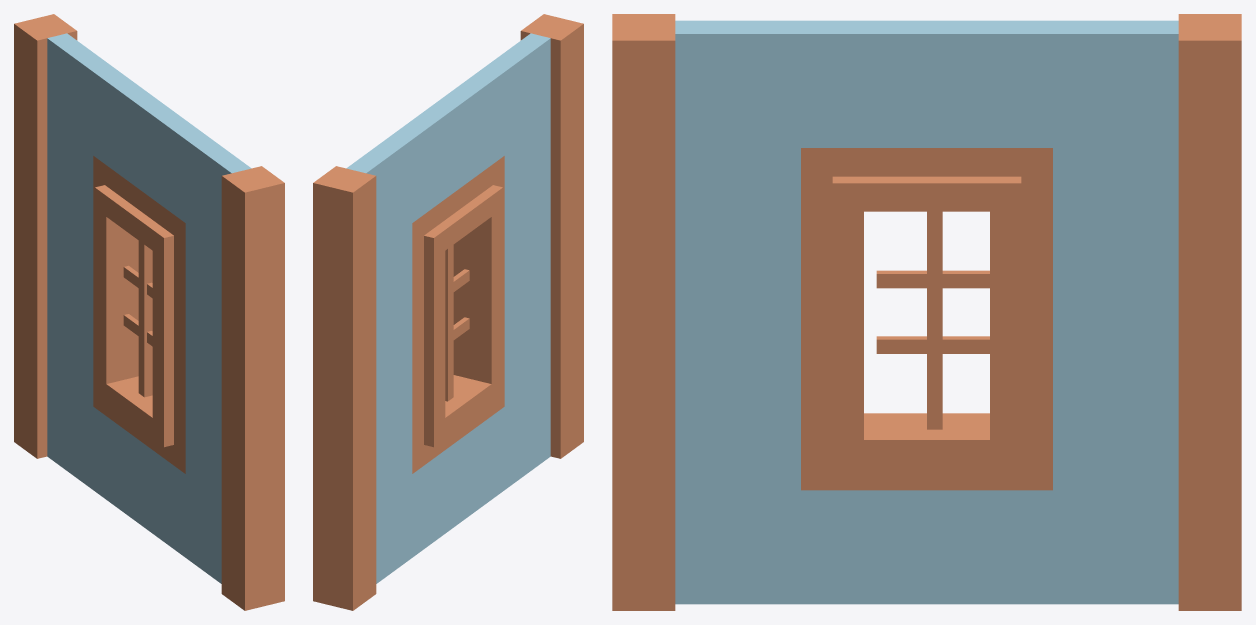
The model's file is wallWindowGlass.glb.
The picture shows the model from 3 angles, left to right: view 1: azimuth 30°, elevation 25°; view 2: azimuth 150°, elevation 25°; view 3: azimuth 270°, elevation 25°; orthographic projection. The views are drawn at different scales.
Parts seen in each view (by area): view 1: wallWindowGlass, wallWindowGlass.001; view 2: wallWindowGlass, wallWindowGlass.001; view 3: wallWindowGlass, wallWindowGlass.001.
Boxes of the visible parts, x1,y1,x2,y2 form: wallWindowGlass: [14, 14, 284, 610]; wallWindowGlass.001: [123, 241, 152, 397]; wallWindowGlass: [313, 14, 583, 610]; wallWindowGlass.001: [445, 245, 469, 401]; wallWindowGlass: [612, 14, 1241, 610]; wallWindowGlass.001: [876, 211, 989, 429].
Bounding box in the file's own units: 0.3 × 3 × 3.
